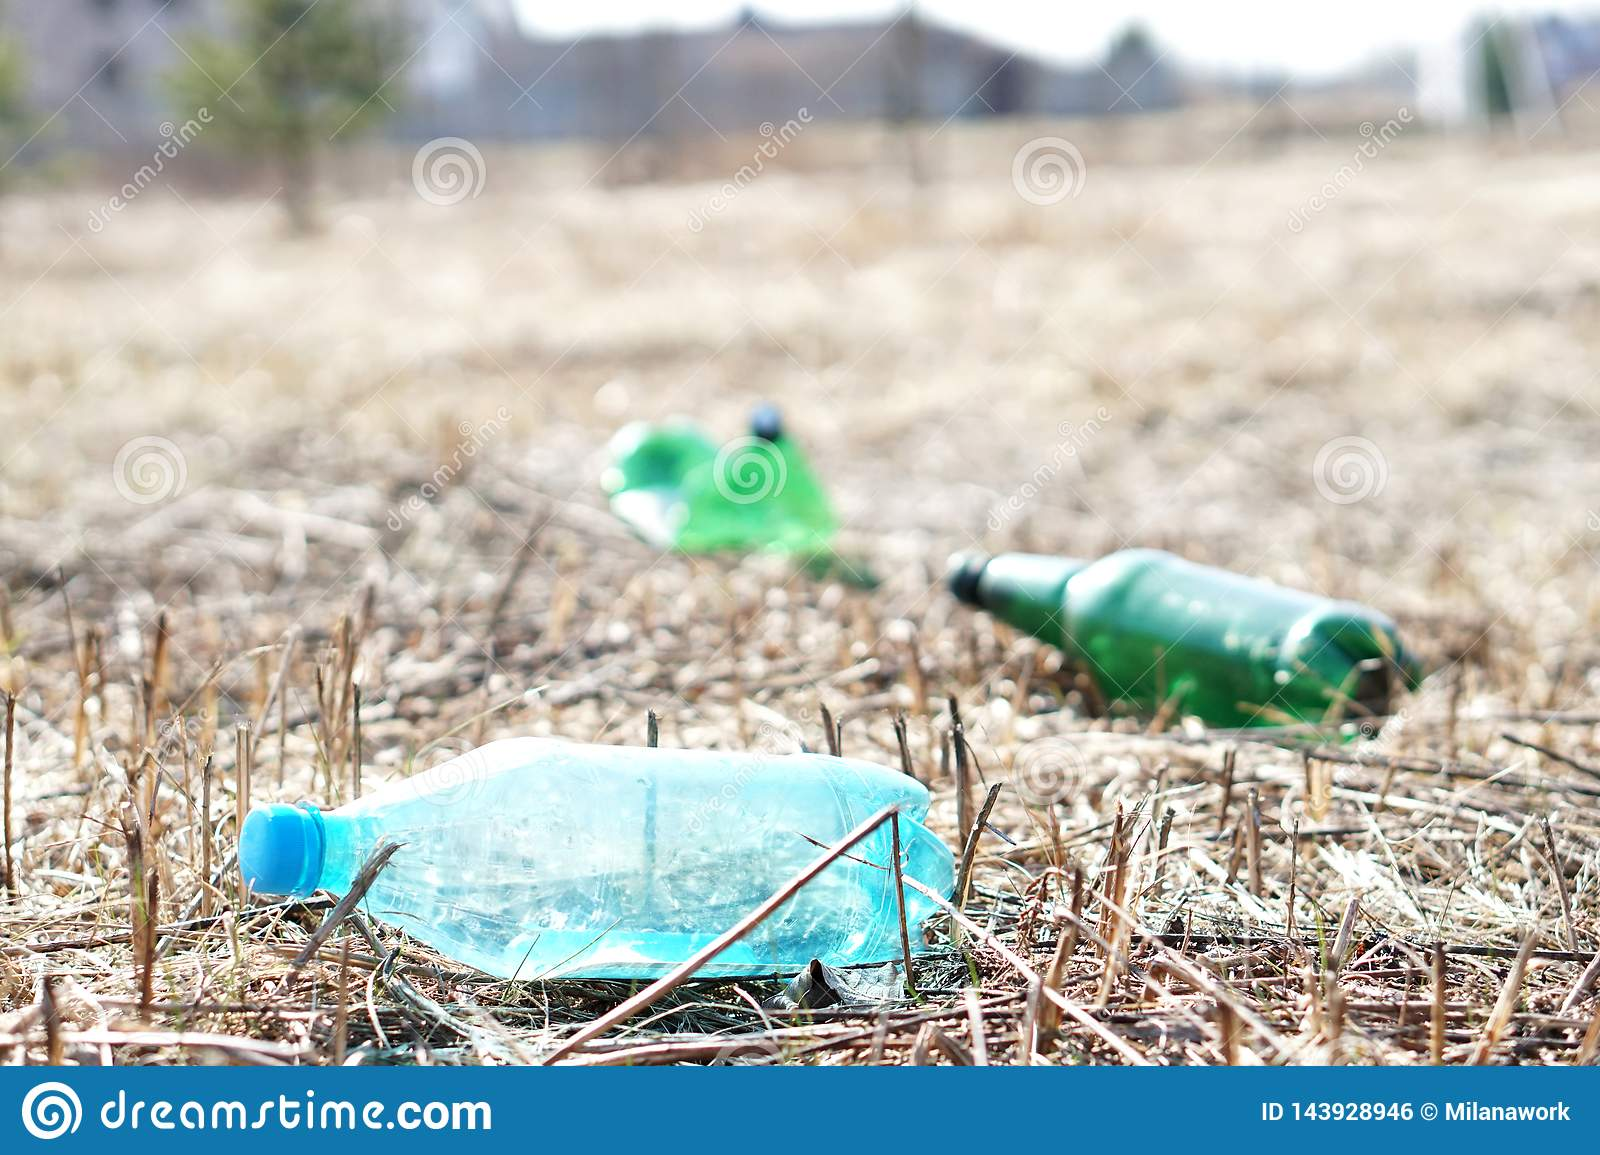plastic_bottle: (170, 631, 1120, 1080), (916, 378, 1561, 897), (553, 279, 868, 612)
